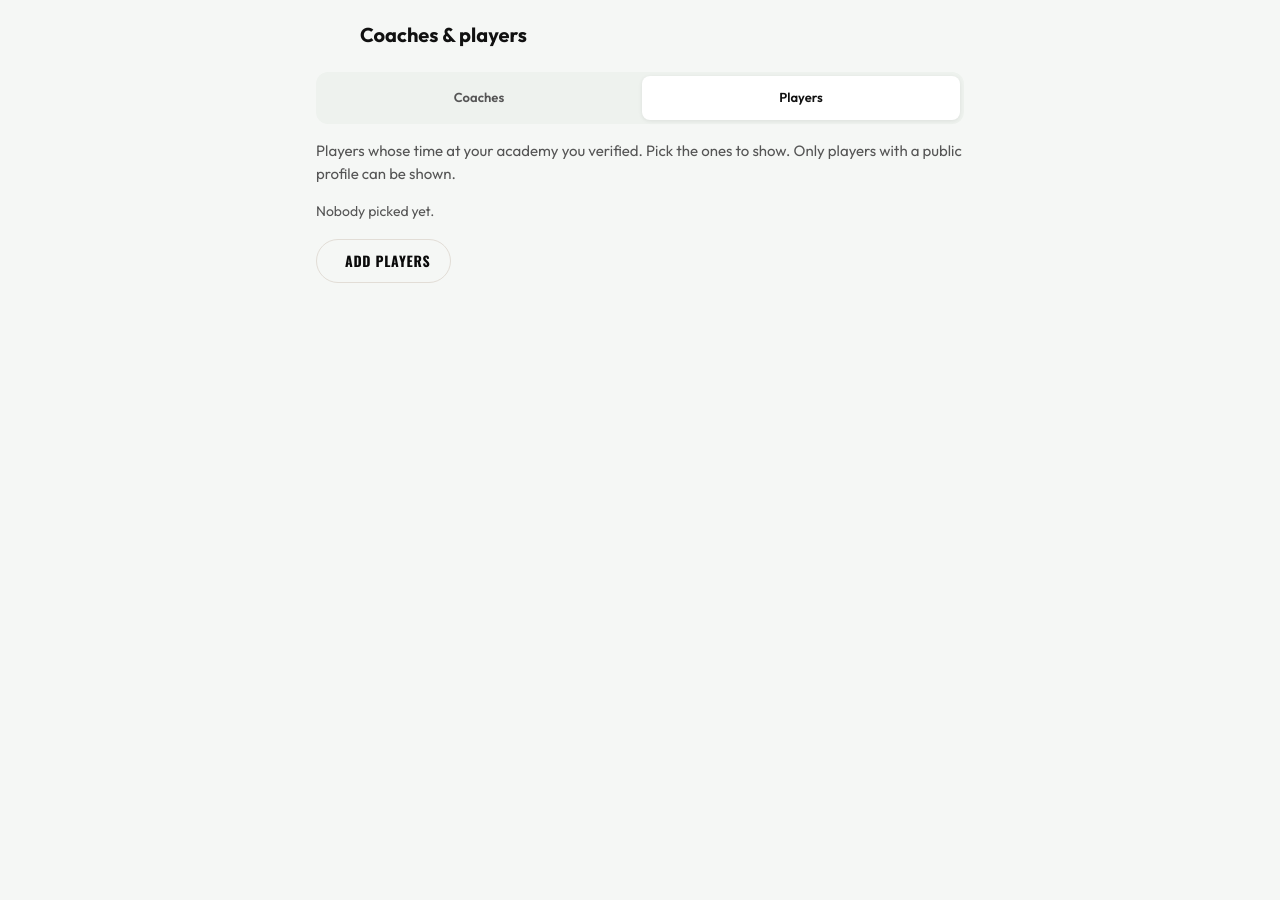
Test: The players tab › disables a candidate who can't be shown, and says why
This screenshot has width=1280, height=900.
Click the button "Add players" at (384, 261), box x1=316 y1=239 x2=451 y2=283
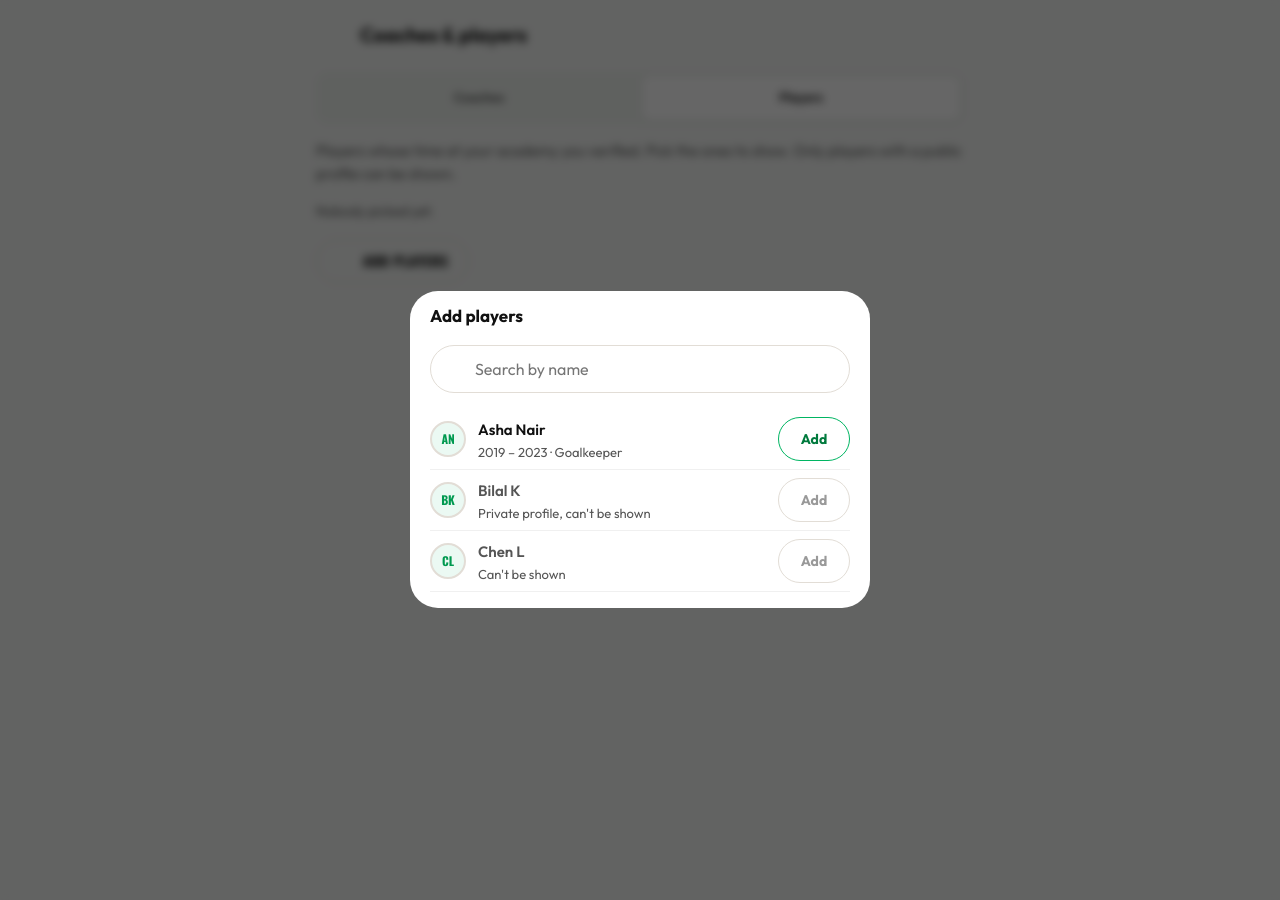
Check: the button with aria-label "Add Asha Nair" is enabled, box x1=778 y1=418 x2=850 y2=462
Check: the button with aria-label "Add Bilal K" is disabled, box x1=778 y1=479 x2=850 y2=523
Check: the text "Private profile, can't be shown" is shown, box x1=478 y1=505 x2=651 y2=521
